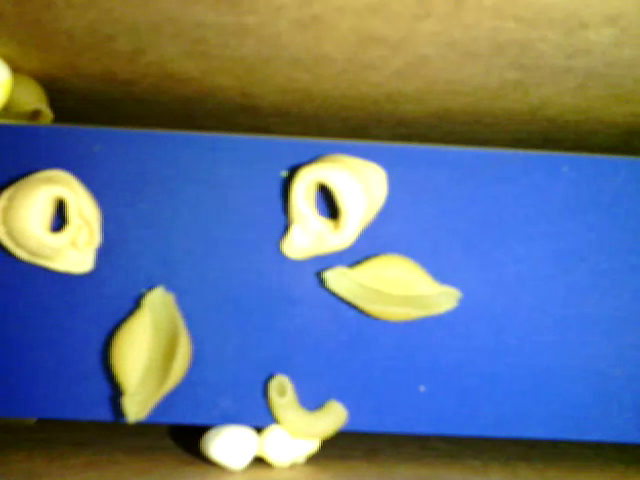elbow: (269, 375, 350, 437)
shell: (106, 280, 190, 421), (320, 254, 464, 329), (3, 75, 60, 127)
tortellini: (277, 151, 390, 264), (3, 163, 105, 275)
